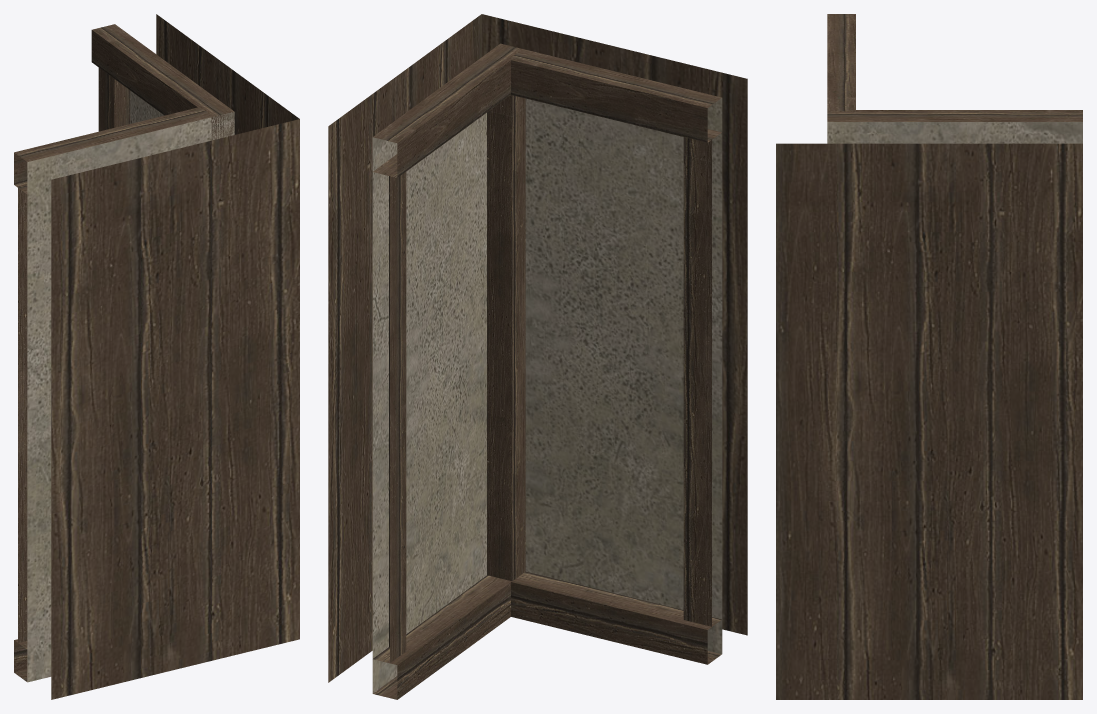
The model's file is ARC1010296.fbx.
The picture shows the model from 3 angles, left to right: view 1: azimuth 30°, elevation 25°; view 2: azimuth 150°, elevation 25°; view 3: azimuth 270°, elevation 25°; orthographic projection. The views are drawn at different scales.
Visible parts, largest first — view 1: smARC1010296; view 2: smARC1010296; view 3: smARC1010296.
Part boxes in pixels (x1,y1,x2,y2): smARC1010296: [14, 14, 299, 699]; smARC1010296: [328, 14, 747, 699]; smARC1010296: [776, 14, 1082, 699].
Size of the model in its own units: 134 by 268 by 134.
1 material, 1 textured.
